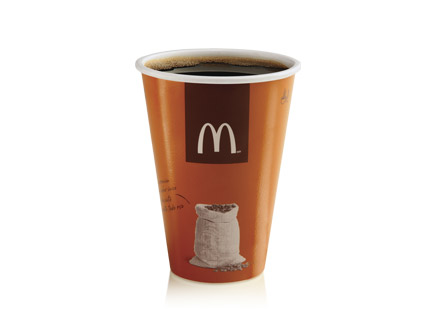mcdonalds: (193, 118, 239, 156)
